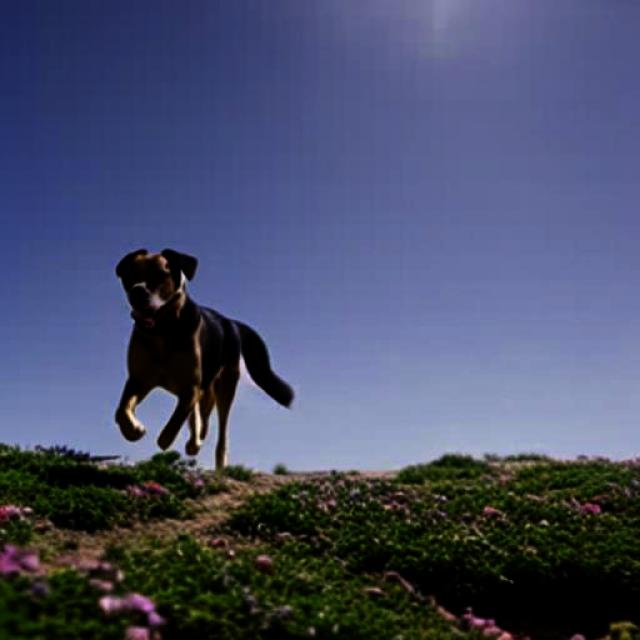Dog: (116, 248, 294, 471)
